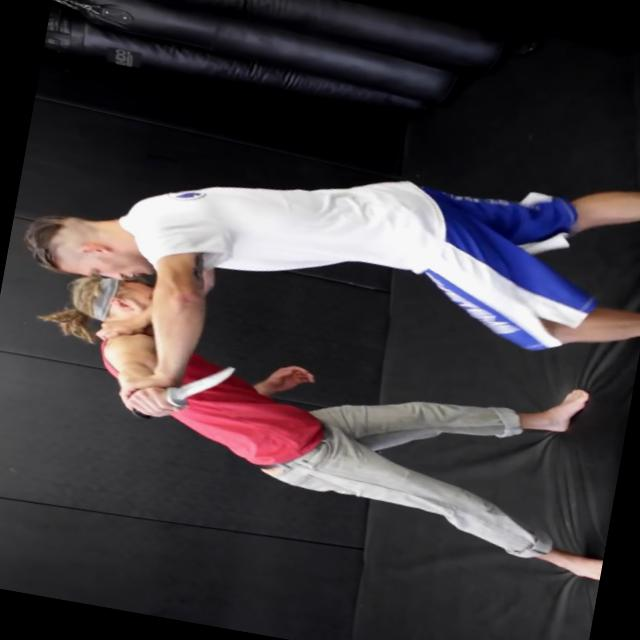knife: (121, 344, 244, 434)
